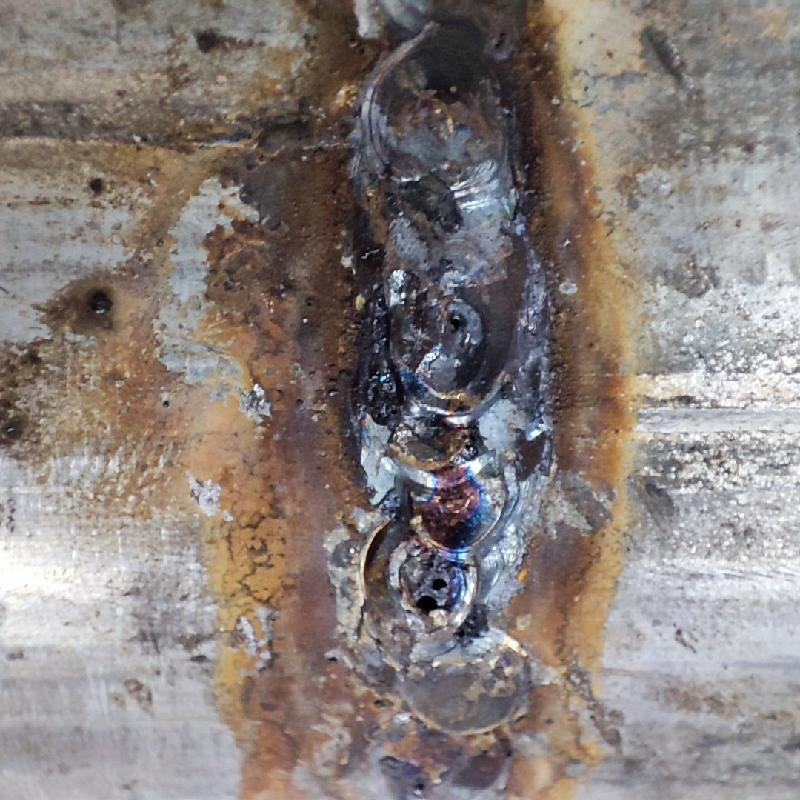Surface_pores: (402, 561, 466, 619), (429, 300, 474, 347)
crater: (365, 267, 524, 796)
